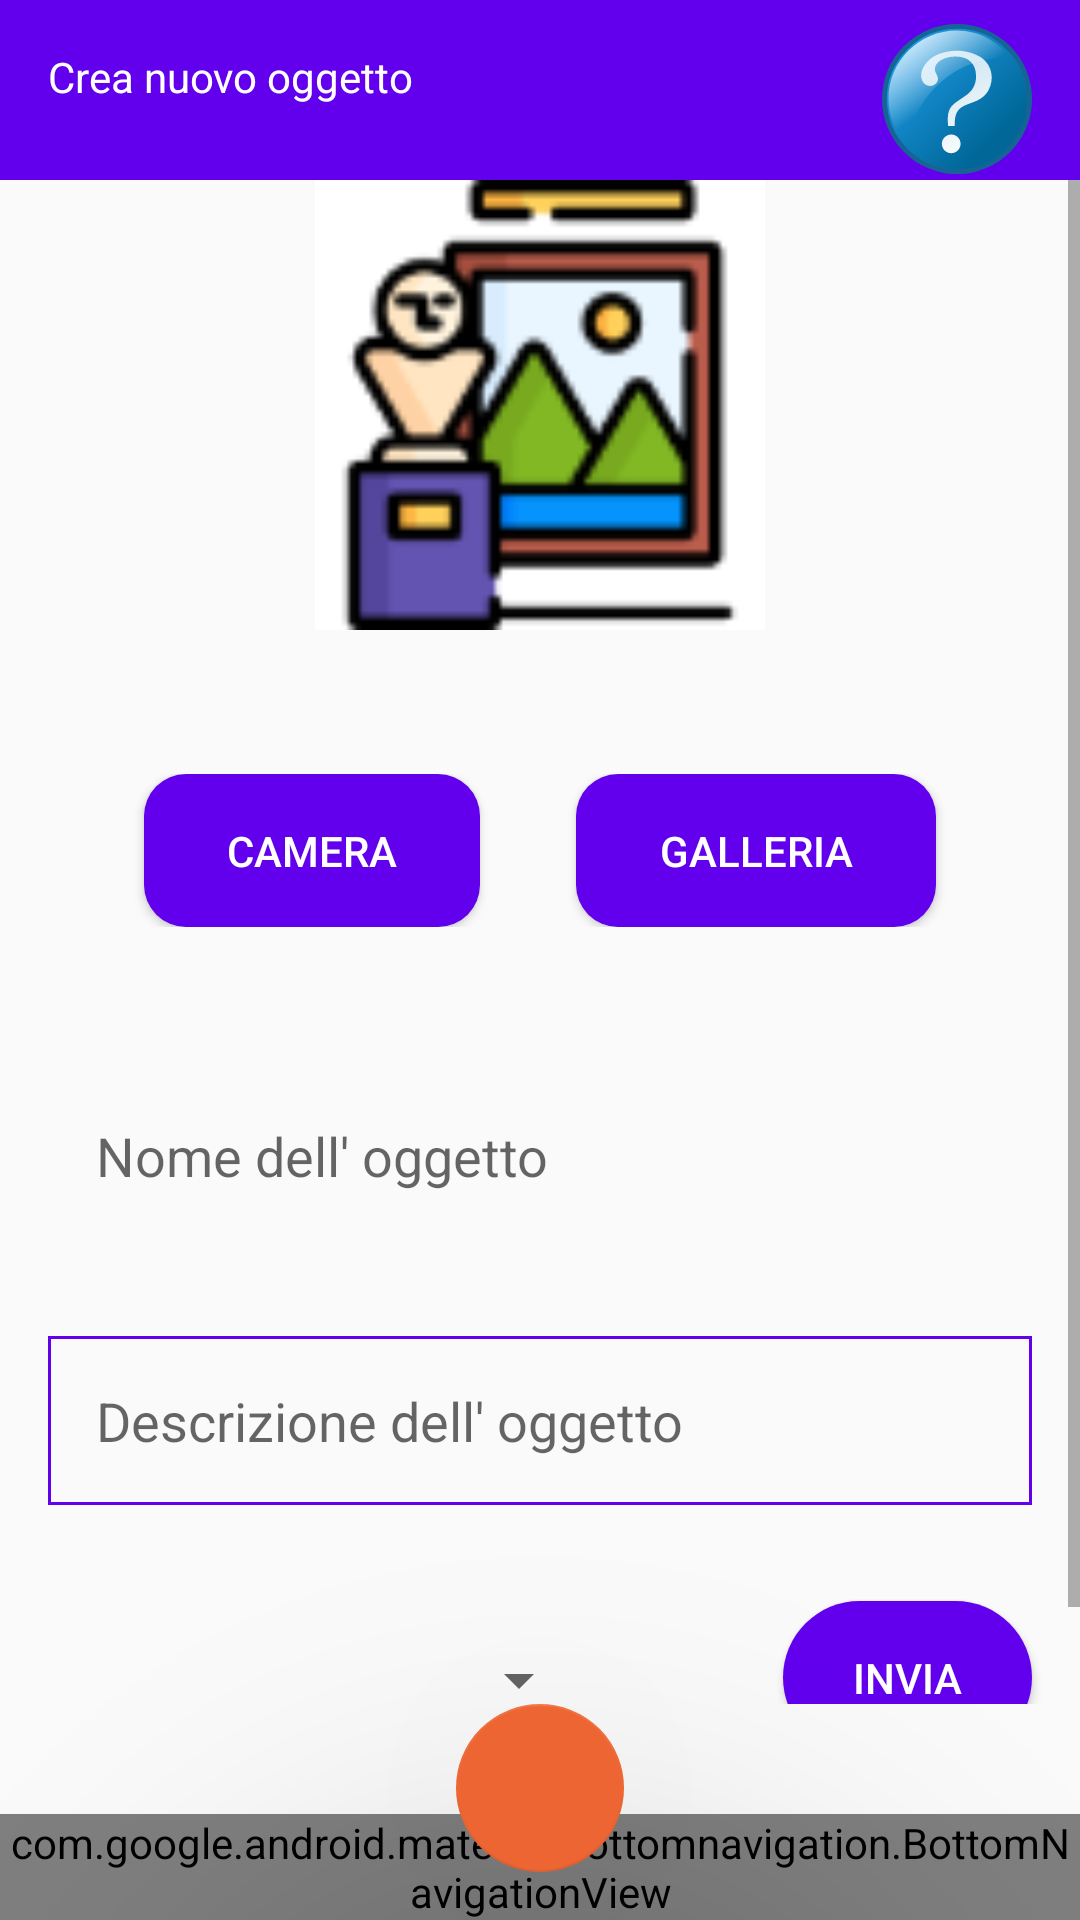

Named icons in this screenshot (1080px x 1920px) and their centers, point (x, y):
kuba information set: point (957, 99)
